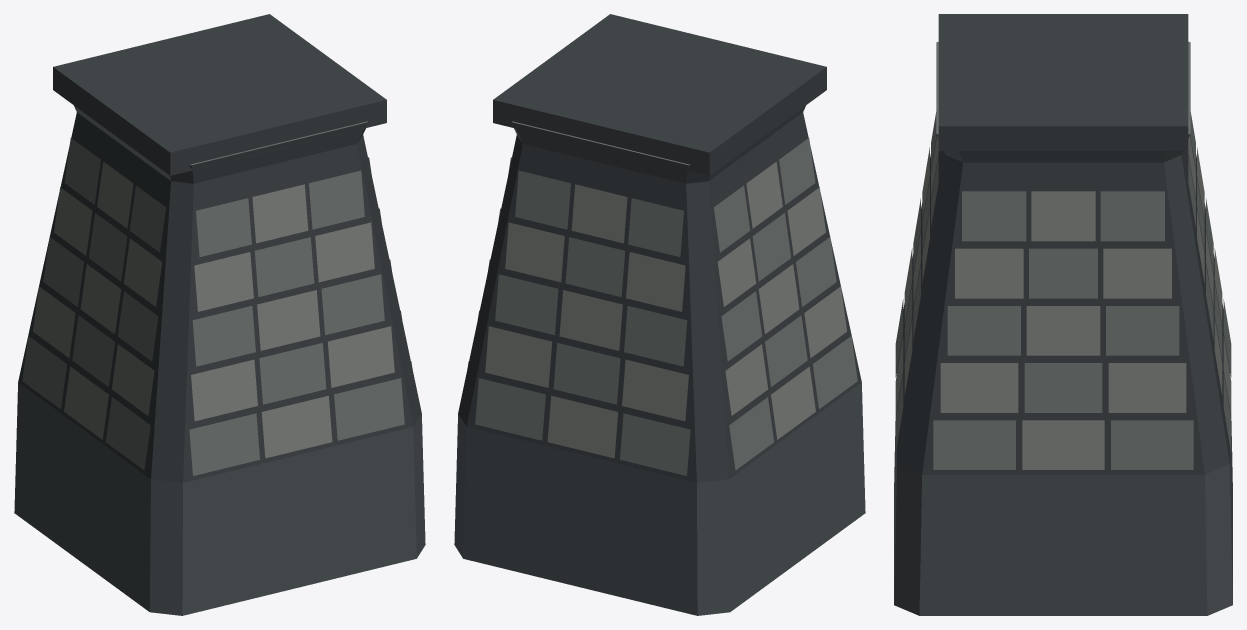
The model's file is SiegeTurretBase.obj.
3 views of the same model, side by side, from view 1: azimuth 30°, elevation 25°; view 2: azimuth 150°, elevation 25°; view 3: azimuth 270°, elevation 25° (orthographic). The views are drawn at different scales.
Visible parts, largest first — view 1: SiegeTurretBase; view 2: SiegeTurretBase; view 3: SiegeTurretBase.
Part boxes in pixels (<box>): SiegeTurretBase: <box>14,14,425,615</box>; SiegeTurretBase: <box>454,14,865,615</box>; SiegeTurretBase: <box>894,14,1232,615</box>.
Size of the model in its own units: 2.24 by 3.46 by 2.24.
Materials: 1 (1 with a texture image).
